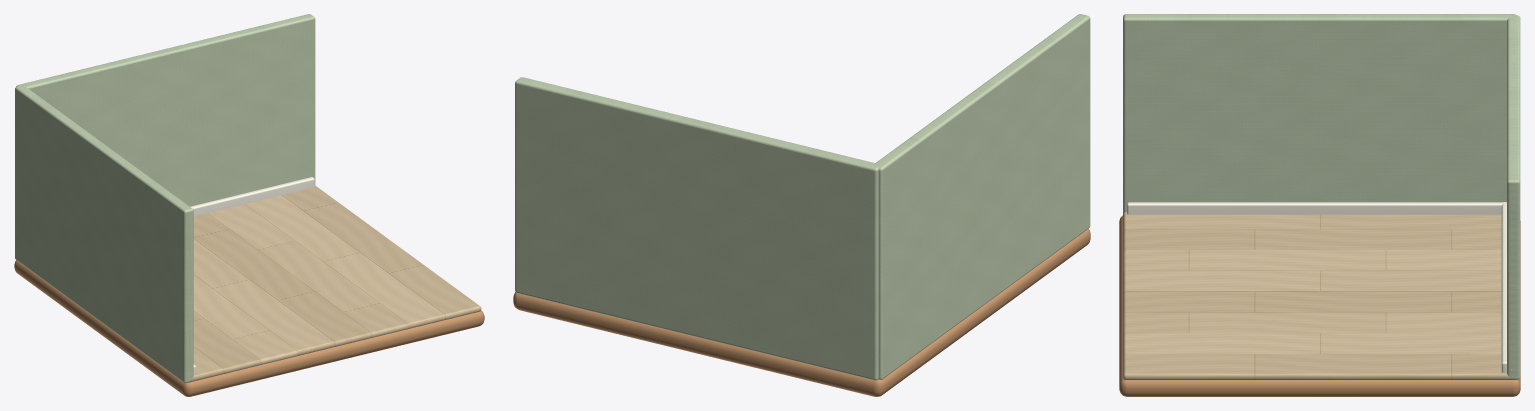
File: room13.glb
3 renders of one model, left to right at view 1: azimuth 30°, elevation 25°; view 2: azimuth 150°, elevation 25°; view 3: azimuth 270°, elevation 25°, orthographic. The views are drawn at different scales.
Parts seen in each view (by area): view 1: Back wall, Cream floor, Left wall, Rounded room foundation, Back skirting; view 2: Back wall, Left wall, Rounded room foundation; view 3: Left wall, Cream floor, Rounded room foundation, Back wall, Left skirting, Back skirting.
Boxes of the visible parts, <box> form: Back wall: <box>16,14,315,206</box>; Cream floor: <box>188,185,481,382</box>; Left wall: <box>15,85,193,382</box>; Rounded room foundation: <box>14,260,484,396</box>; Back skirting: <box>190,177,314,216</box>; Back wall: <box>515,77,879,380</box>; Left wall: <box>874,14,1090,379</box>; Rounded room foundation: <box>513,229,1090,396</box>; Left wall: <box>1123,14,1515,213</box>; Cream floor: <box>1123,212,1514,379</box>; Rounded room foundation: <box>1119,215,1520,396</box>; Back wall: <box>1507,15,1520,379</box>; Left skirting: <box>1127,202,1506,214</box>; Back skirting: <box>1501,202,1506,372</box>.
Size of the model in its own units: 5.1 by 3.04 by 5.1.
4 materials, 2 textured.
